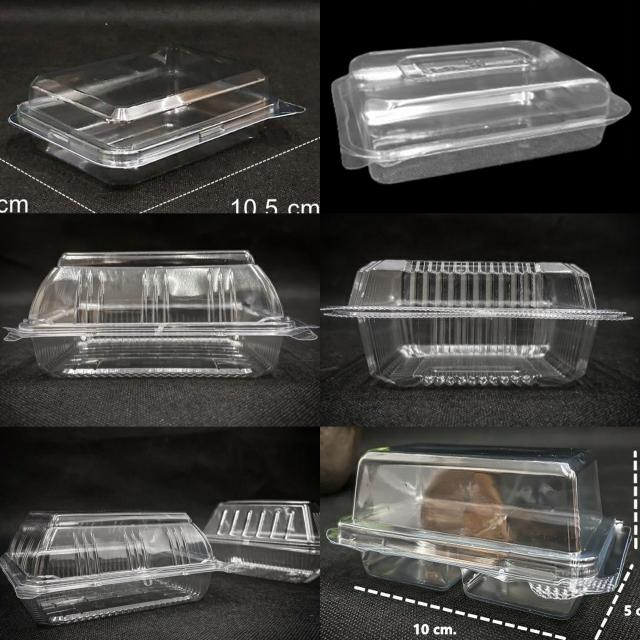Single-Use-Plastic: (328, 444, 630, 619), (332, 40, 630, 184), (9, 46, 304, 185), (6, 250, 315, 378), (323, 260, 629, 386), (0, 511, 225, 624), (204, 500, 320, 582)
